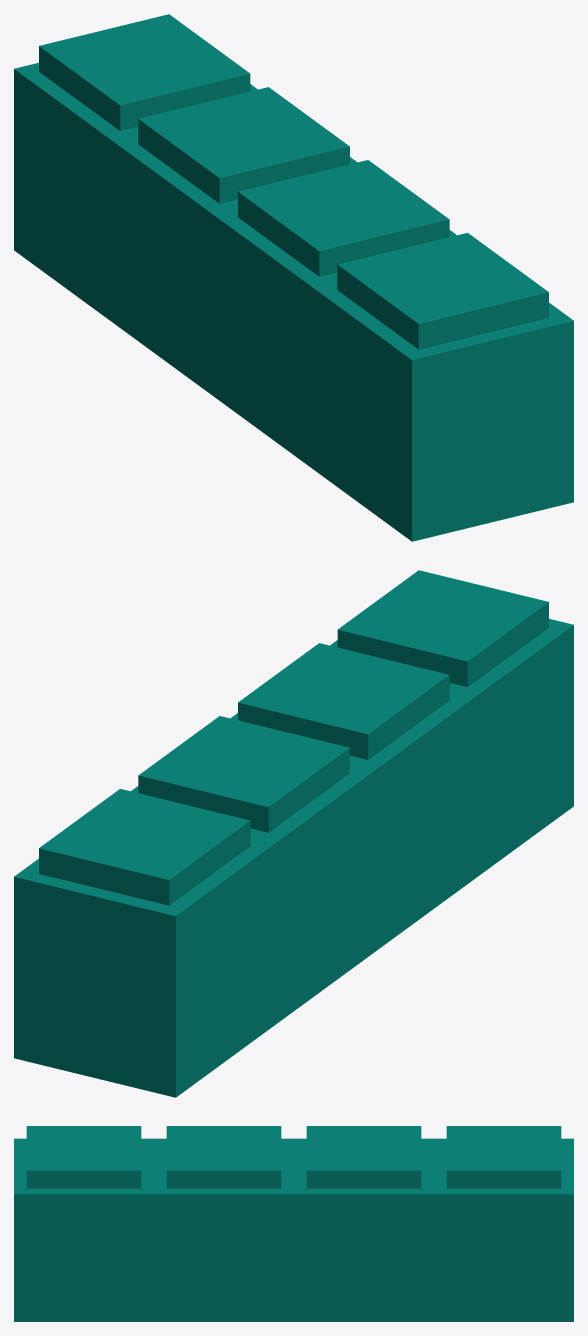
File: Lego_Part_6.fbx
3 renders of one model, top to bottom at view 1: azimuth 30°, elevation 25°; view 2: azimuth 150°, elevation 25°; view 3: azimuth 270°, elevation 25°, orthographic. The views are drawn at different scales.
Parts seen in each view (by area): view 1: Lego_Part_6; view 2: Lego_Part_6; view 3: Lego_Part_6.
Part boxes in pixels (box(x1,y1,x2,y2)): Lego_Part_6: box(14, 14, 573, 541); Lego_Part_6: box(14, 570, 573, 1097); Lego_Part_6: box(14, 1126, 573, 1321).
Bounding box in the file's own units: 2.08 × 2.54 × 8.86.
Materials: 1 (1 with a texture image).
